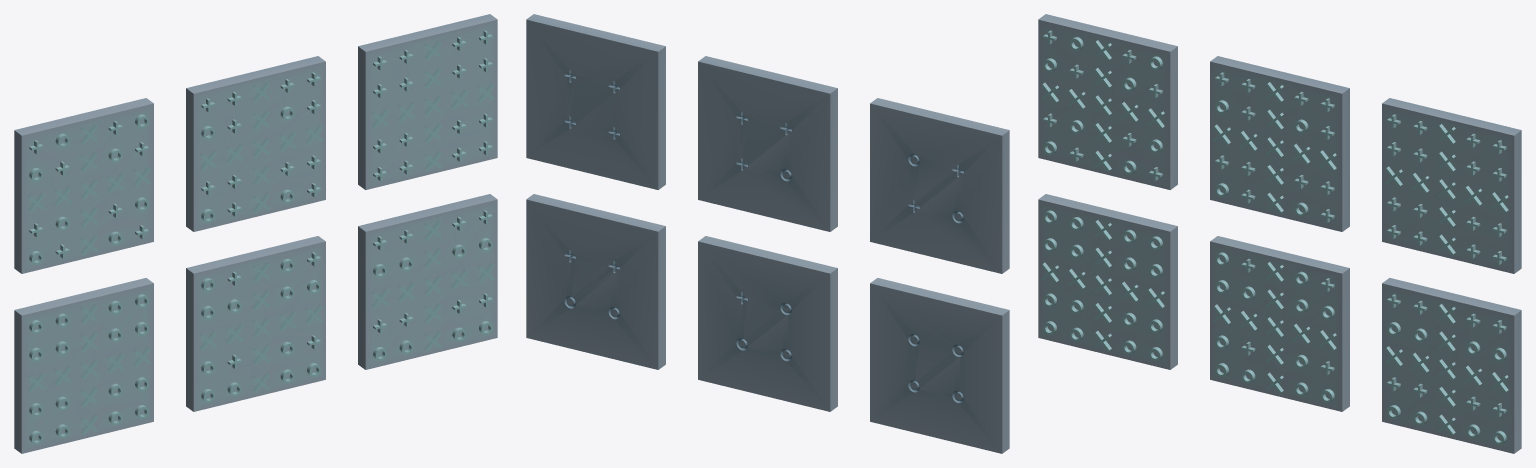
The model's file is six-blue-tiles.glb.
3 renders of one model, left to right at view 1: azimuth 30°, elevation 25°; view 2: azimuth 150°, elevation 25°; view 3: azimuth 330°, elevation 25°, orthographic.
Parts seen in each view (by area): view 1: blue-0, blue-1, blue-4, blue-5, blue-2, blue-3; view 2: blue-0, blue-1, blue-4, blue-5, blue-2, blue-3; view 3: blue-1, blue-2, blue-3, blue-4, blue-0, blue-5.
Part boxes in pixels (x1=…): blue-0: x1=14, y1=278, x2=153, y2=453; blue-1: x1=186, y1=236, x2=325, y2=411; blue-4: x1=186, y1=56, x2=325, y2=231; blue-5: x1=358, y1=14, x2=497, y2=189; blue-2: x1=358, y1=194, x2=497, y2=369; blue-3: x1=14, y1=98, x2=153, y2=273; blue-0: x1=870, y1=278, x2=1009, y2=453; blue-1: x1=698, y1=236, x2=837, y2=411; blue-4: x1=698, y1=56, x2=837, y2=231; blue-5: x1=526, y1=14, x2=665, y2=189; blue-2: x1=526, y1=194, x2=665, y2=369; blue-3: x1=870, y1=98, x2=1009, y2=273; blue-1: x1=1210, y1=236, x2=1349, y2=411; blue-2: x1=1382, y1=278, x2=1521, y2=453; blue-3: x1=1038, y1=14, x2=1177, y2=189; blue-4: x1=1210, y1=56, x2=1349, y2=231; blue-0: x1=1038, y1=194, x2=1177, y2=369; blue-5: x1=1382, y1=98, x2=1521, y2=273.
Bounding box in the file's own units: 216 × 138 × 8.
